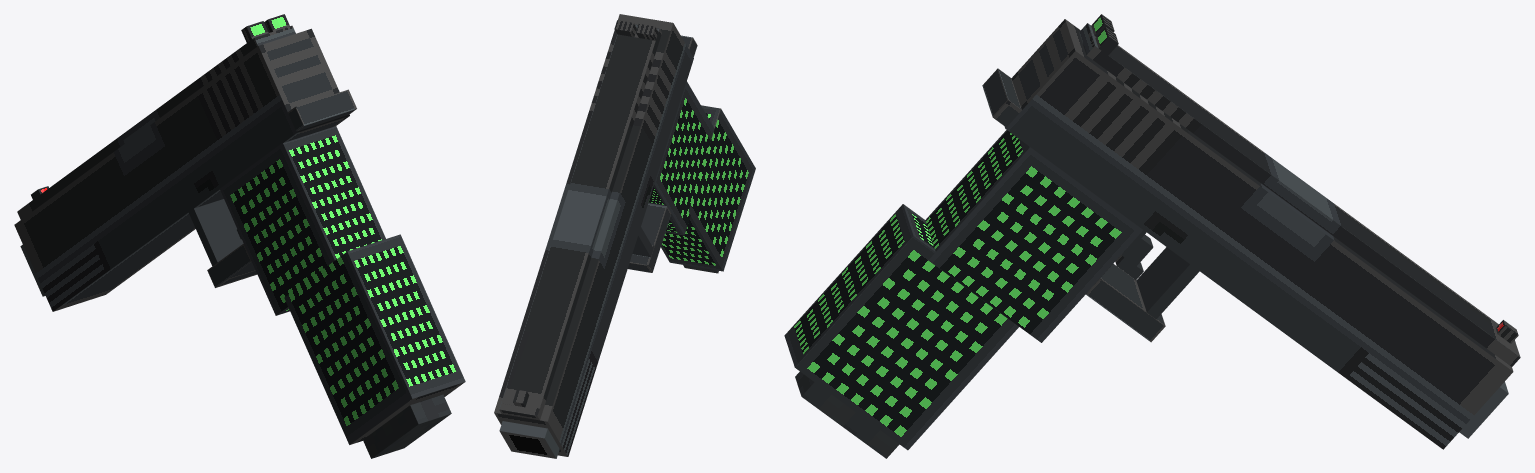
The model's file is BGN_BLOCKGLOCK GREEN.fbx.
The picture shows the model from 3 angles, left to right: view 1: azimuth 30°, elevation 25°; view 2: azimuth 150°, elevation 25°; view 3: azimuth 270°, elevation 25°; orthographic projection. The views are drawn at different scales.
Parts seen in each view (by area): view 1: BGN_BLOCKGLOCK_GREEN, CLIP; view 2: BGN_BLOCKGLOCK_GREEN; view 3: BGN_BLOCKGLOCK_GREEN, CLIP.
Part boxes in pixels (x1,y1,x2,y2): BGN_BLOCKGLOCK_GREEN: (14,14,465,444); CLIP: (363,394,451,458); BGN_BLOCKGLOCK_GREEN: (494,14,755,458); BGN_BLOCKGLOCK_GREEN: (784,14,1520,450); CLIP: (795,371,899,458).
Size of the model in its own units: 17.06 by 46.03 by 71.54.
Materials: 2 (2 with a texture image).
